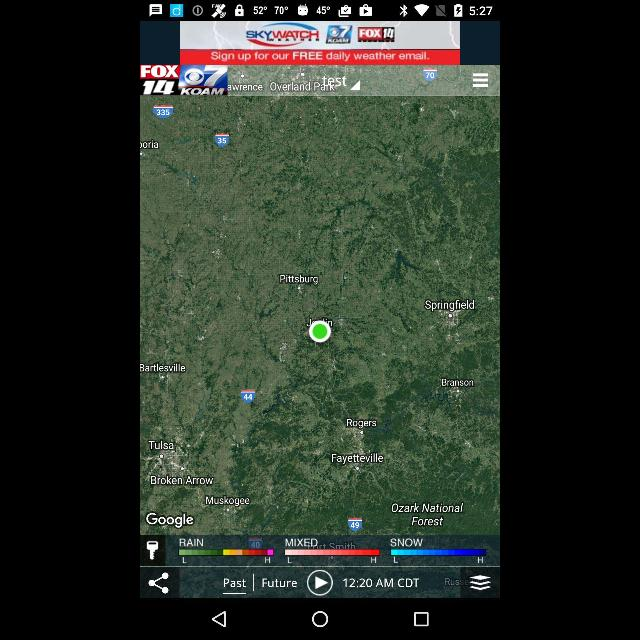icon: (472, 72, 488, 90), (312, 610, 328, 628), (212, 610, 226, 628), (414, 612, 428, 626)
iframe: (140, 22, 500, 64)
map: (140, 96, 500, 596)
panel: (140, 598, 500, 640), (140, 64, 500, 94)
text: (322, 76, 348, 86)
uppertaskbar: (140, 1, 500, 22)
